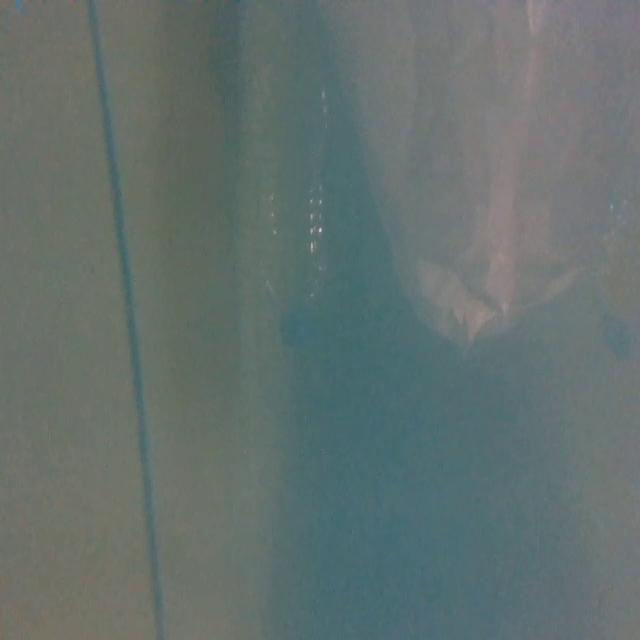plastic bags: (349, 0, 640, 348)
plastic bottle: (248, 67, 338, 356)
